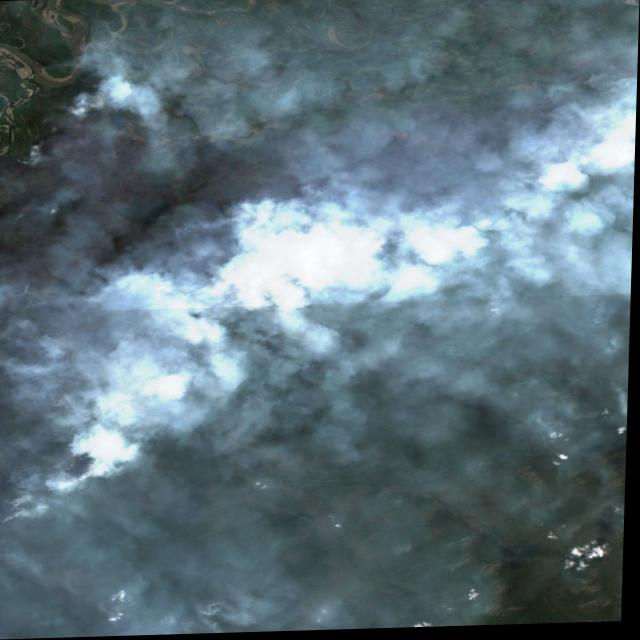fire: (0, 128, 637, 519), (43, 78, 134, 133)
